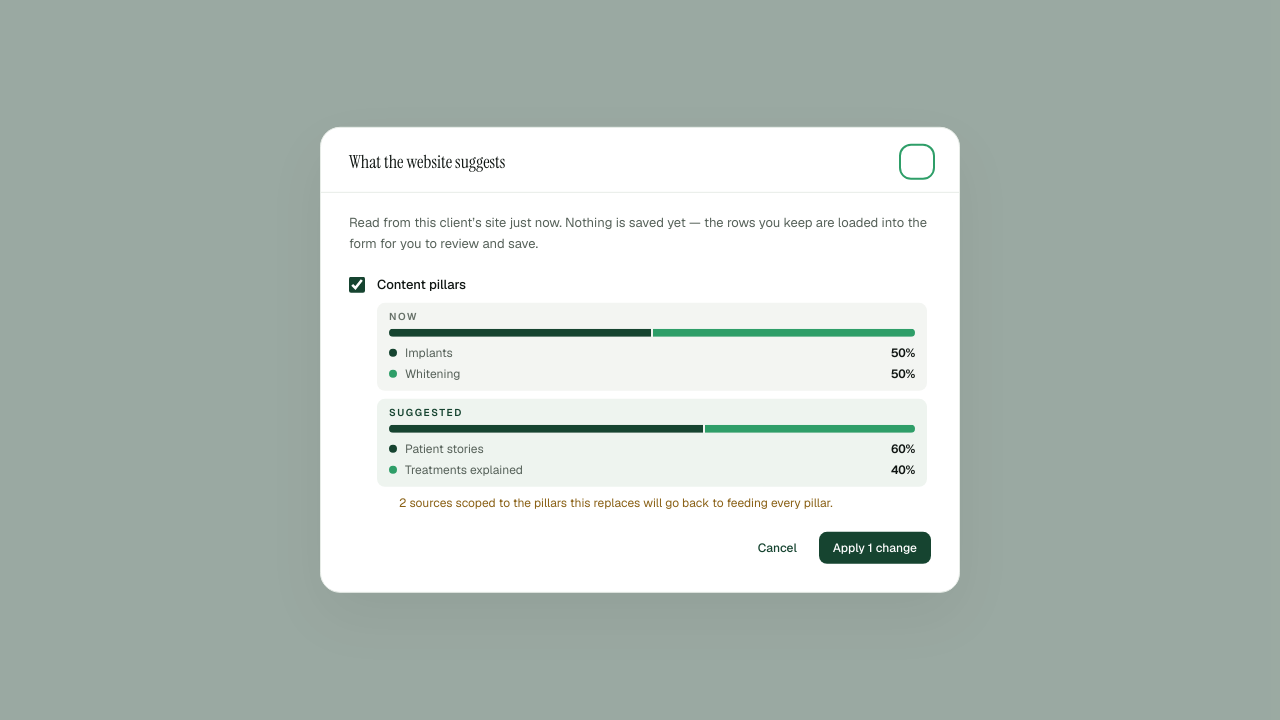
Test: ReanalyzeBrandDialog › shows a row’s consequence only while that row is ticked
The width and height of the screenshot is (1280, 720).
expect the text "2 sources scoped to the pillars this replaces will go back to feeding every pillar." is shown: met, box [399,494,833,510]
// Untick it and the consequence stops applying, so it stops being stated.
Click the checkbox labelled "Content pillars" at (357,285), box [349,277,365,293]
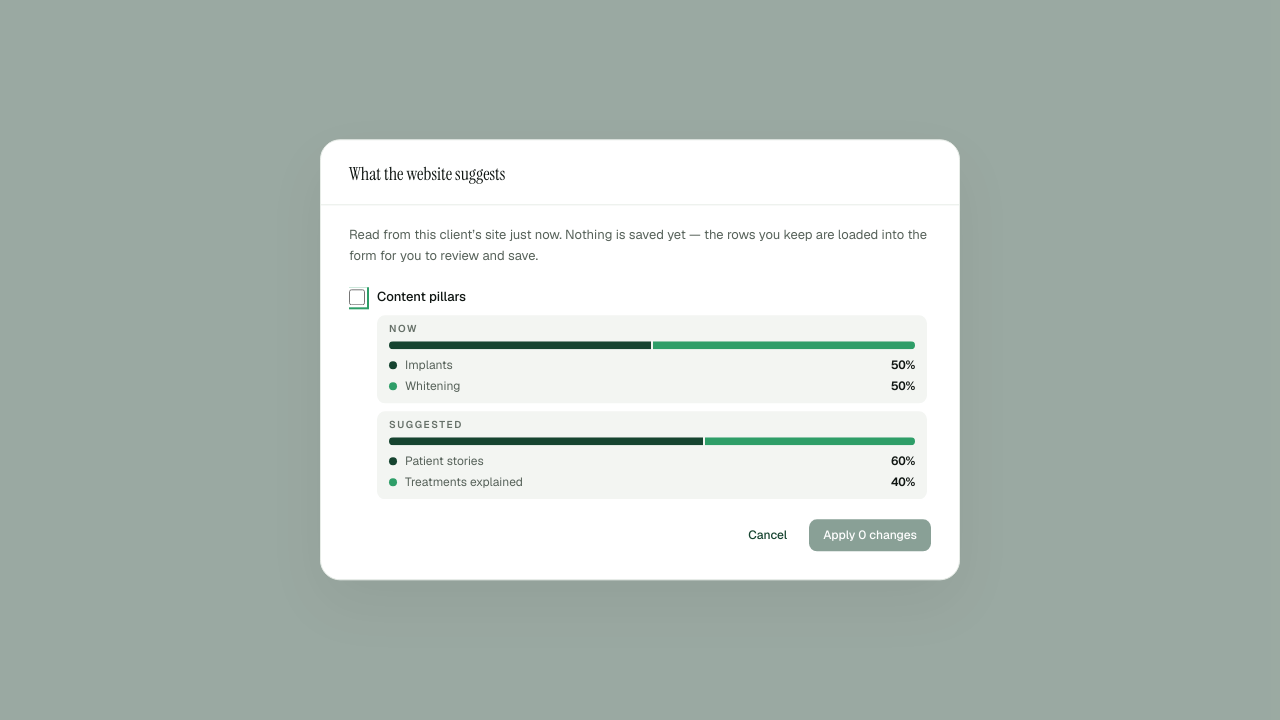
expect the text "2 sources scoped to the pillars this replaces will go back to feeding every pillar." is gone: met
